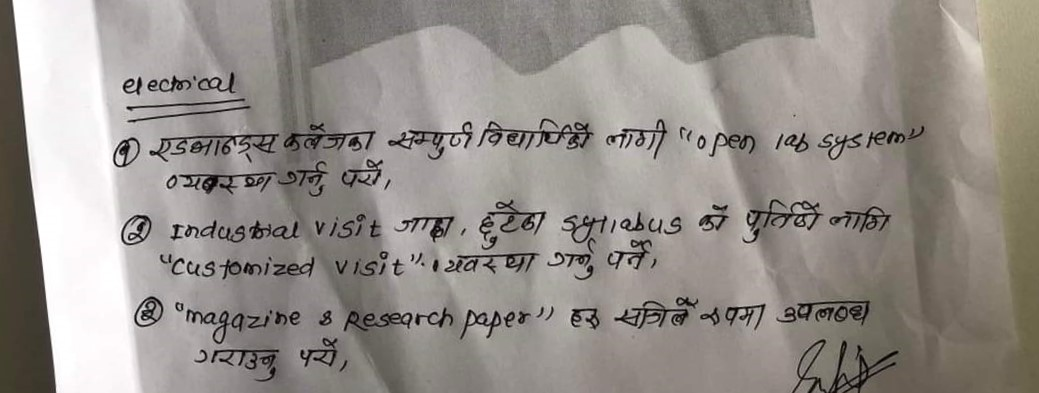text: (476, 115, 593, 157), (146, 130, 279, 163), (741, 198, 823, 247), (477, 200, 546, 251), (384, 122, 474, 159), (282, 122, 378, 156), (191, 346, 278, 383), (603, 118, 672, 161), (773, 300, 876, 328), (164, 170, 274, 196), (613, 296, 695, 330), (543, 239, 598, 282), (443, 253, 539, 276), (825, 206, 892, 237), (278, 158, 328, 199), (699, 302, 765, 332), (391, 215, 455, 241), (603, 239, 650, 272), (338, 159, 383, 191), (300, 337, 340, 373), (567, 304, 603, 336), (694, 204, 728, 236), (138, 298, 158, 323), (116, 142, 134, 168), (126, 220, 147, 242)
